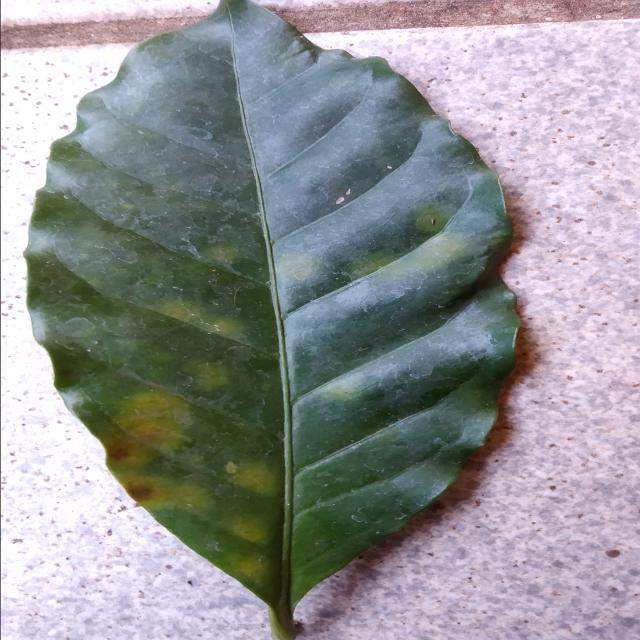Enfermedad-Roya: (24, 0, 523, 618)
